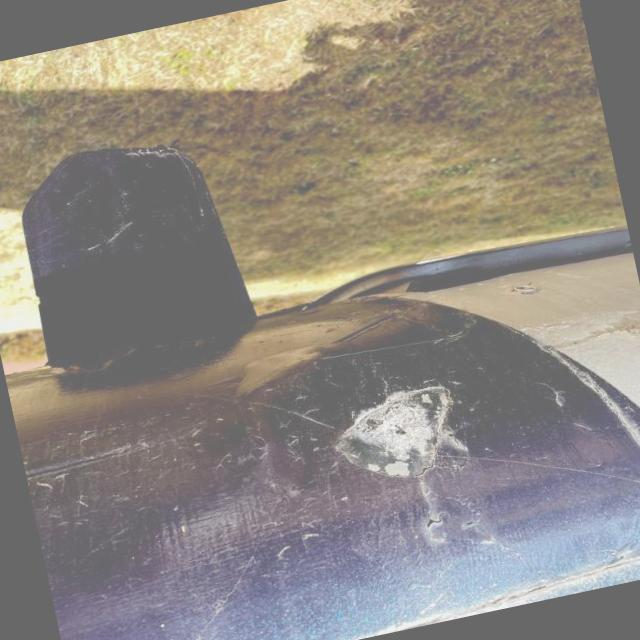crack: (413, 496, 501, 544)
dent: (319, 376, 486, 500)
